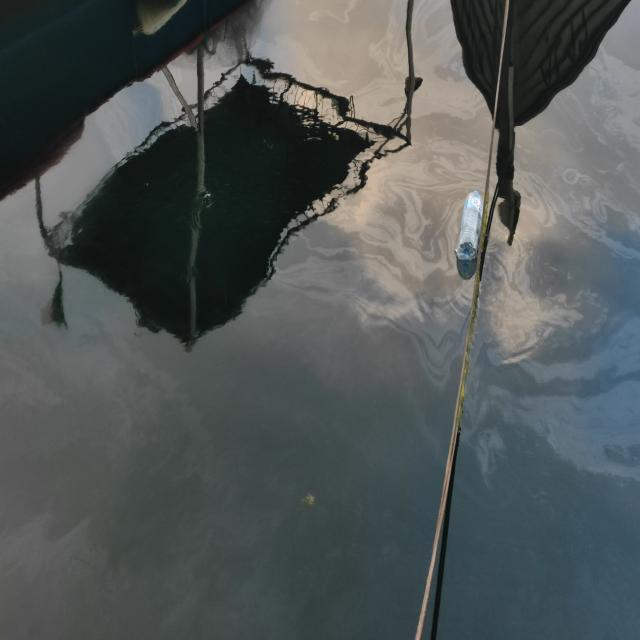Plastic bottle: (456, 189, 484, 262)
